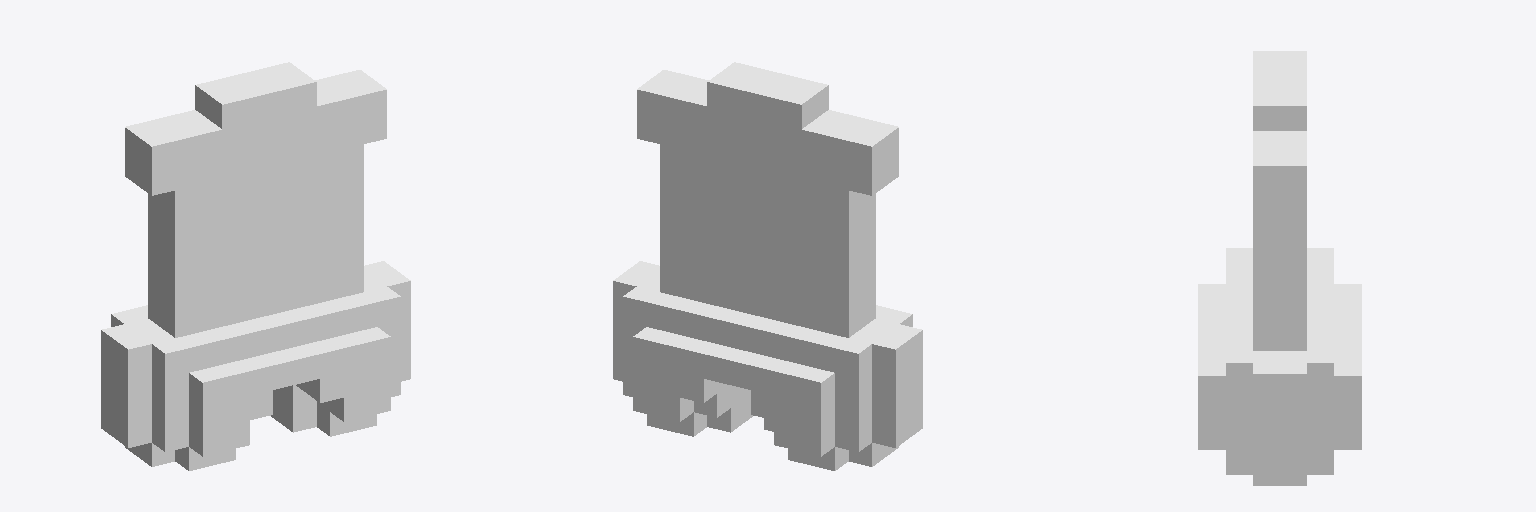
File: LowBoy-0.obj
3 views of the same model, side by side, from view 1: azimuth 30°, elevation 25°; view 2: azimuth 150°, elevation 25°; view 3: azimuth 270°, elevation 25° (orthographic).
Parts seen in each view (by area): view 1: LowBoy-0; view 2: LowBoy-0; view 3: LowBoy-0.
Part boxes in pixels (x1,y1,x2,y2): LowBoy-0: (101,62,410,470); LowBoy-0: (613,62,922,470); LowBoy-0: (1198,51,1361,485).
Size of the model in its own units: 12 by 14 by 6.